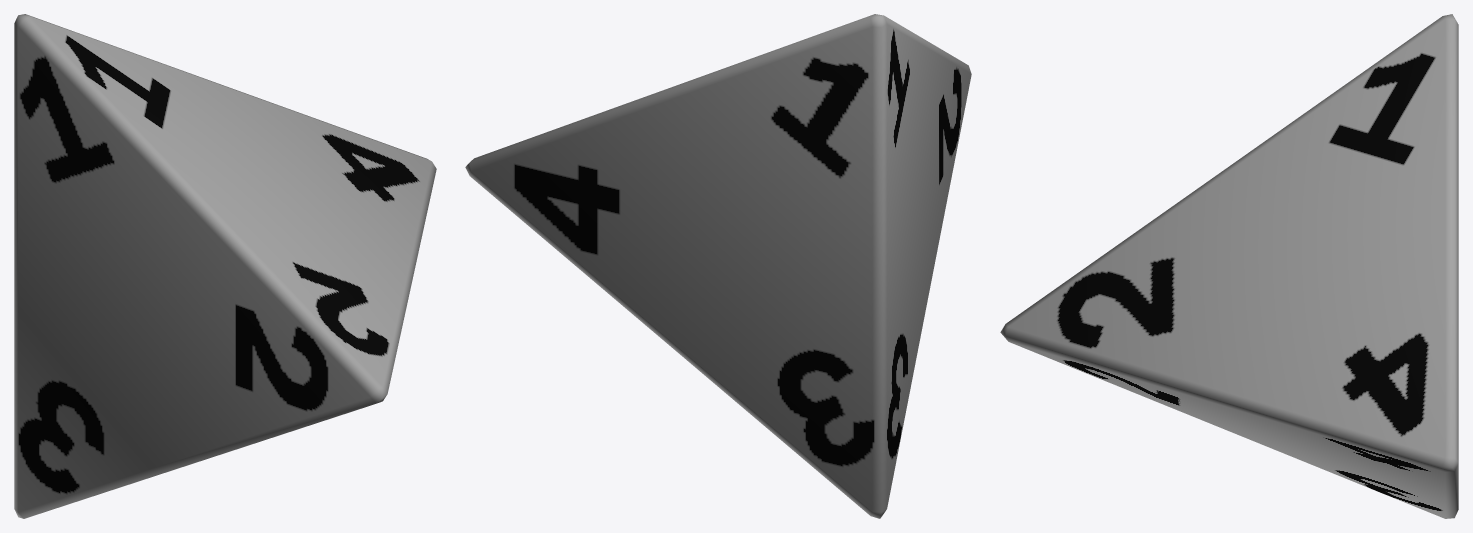
The picture shows the model from 3 angles, left to right: view 1: azimuth 30°, elevation 25°; view 2: azimuth 150°, elevation 25°; view 3: azimuth 270°, elevation 25°; orthographic projection.
Visible parts, largest first — view 1: 4Silver_4Silver_0; view 2: 4Silver_4Silver_0; view 3: 4Silver_4Silver_0.
Part boxes in pixels (box(x1,y1,x2,y2)): 4Silver_4Silver_0: box(14, 14, 436, 518); 4Silver_4Silver_0: box(465, 14, 971, 518); 4Silver_4Silver_0: box(1000, 14, 1458, 518).
Size of the model in its own units: 1.35 by 1.55 by 1.28.
1 material, 1 textured.
